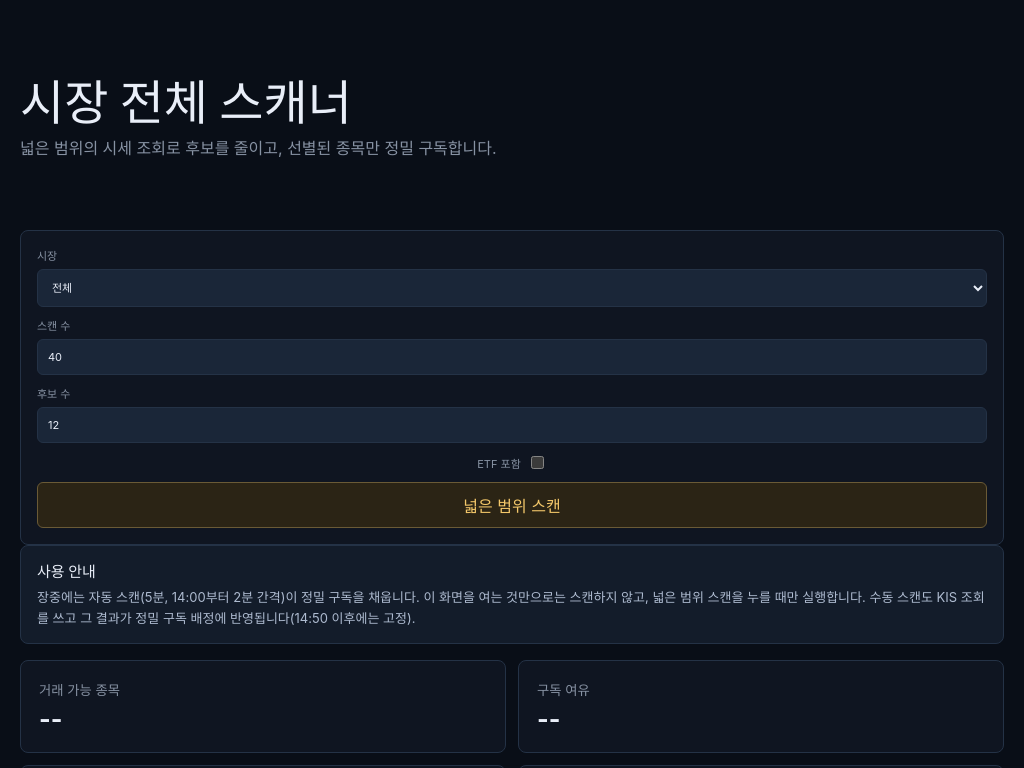
Test: opens market-wide scanner
Expected: the heading "시장 전체 스캐너" is shown, [20,73,352,132]
Expected: the heading "사용 안내" is shown, [37,562,96,581]
What coordinates should you click on to do the following:
click the button "넓은 범위 스캔"
I would click on:
 (512, 505)
Its box is [37,482,987,528].
(page scrolled)
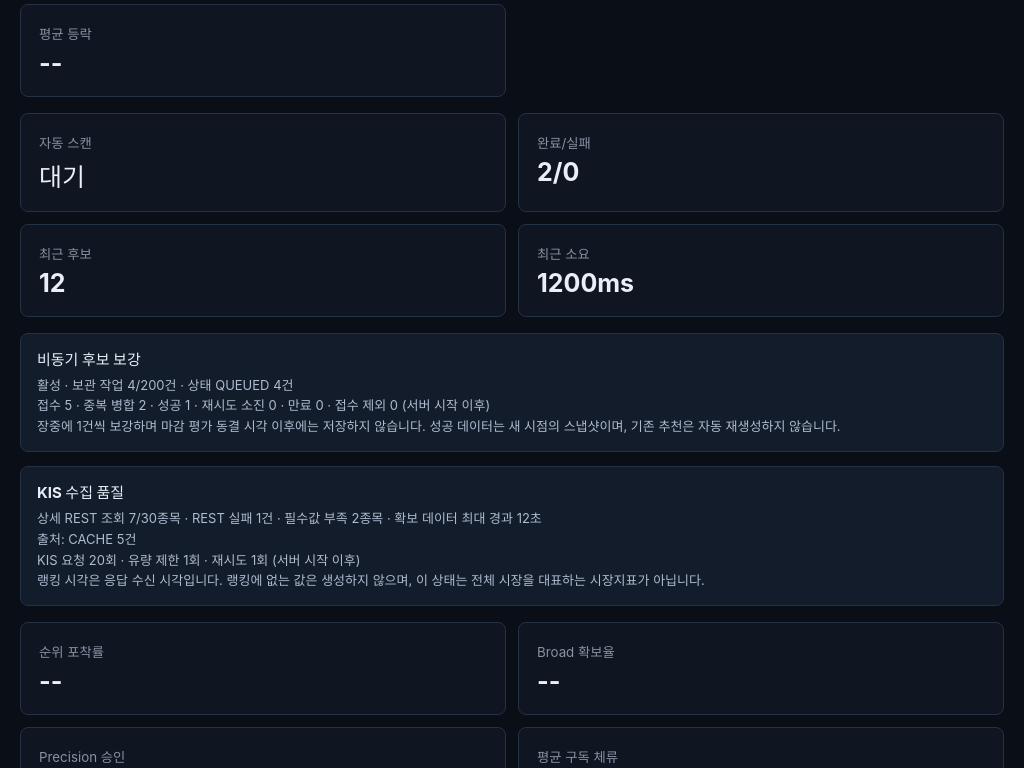
Expected: the text "상세 REST 조회 7/30종목" is shown, [37,510,542,526]
Expected: the text "출처: CACHE 5건" is shown, [37,531,136,547]
Expected: the heading "비동기 후보 보강" is shown, [37,350,141,369]
